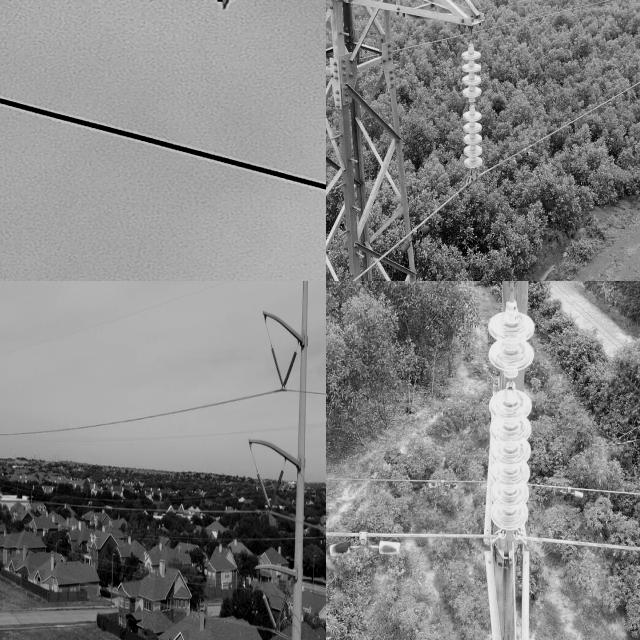杆塔: (326, 0, 499, 281)
正常电缆: (337, 62, 640, 281), (326, 469, 640, 512), (326, 525, 640, 564)
正常绝缘子: (482, 282, 542, 575), (458, 33, 491, 185), (260, 463, 290, 526), (254, 577, 280, 635), (264, 333, 288, 395), (270, 581, 295, 640), (251, 456, 273, 518), (278, 345, 301, 399)
绝缘子破损: (502, 372, 519, 394), (464, 99, 476, 110)
